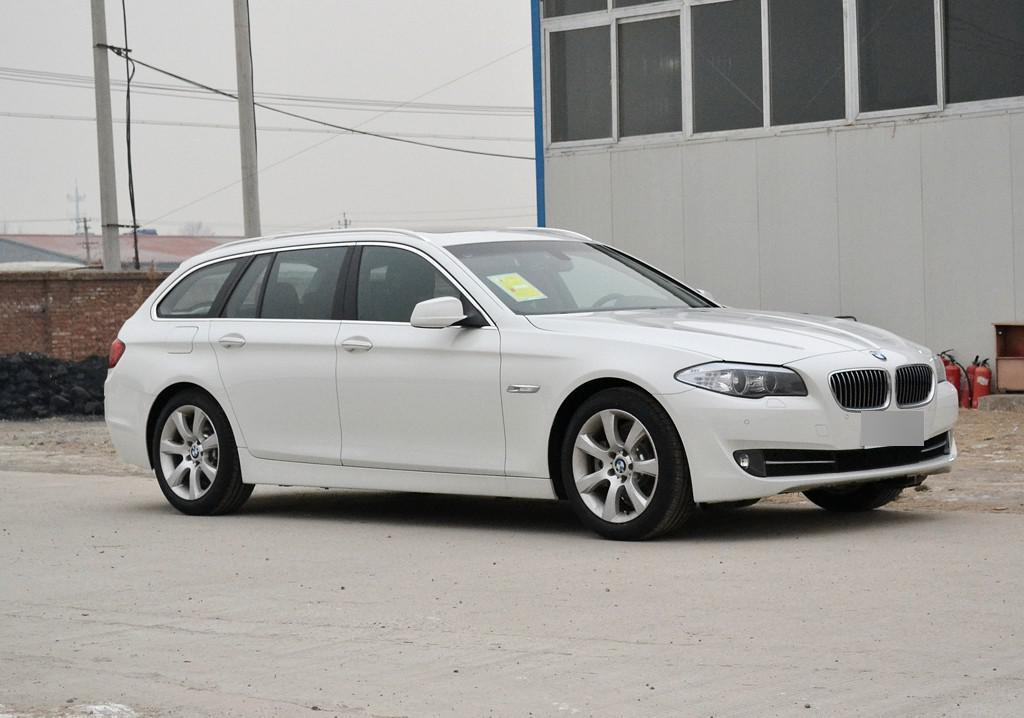Wagon: (100, 220, 963, 541)
